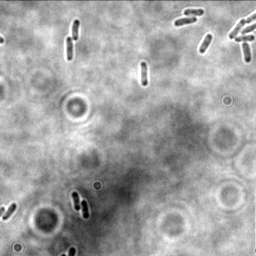Microcolony: (227, 11, 255, 63)
Rod: (1, 201, 18, 222), (197, 32, 213, 54), (173, 15, 198, 27), (138, 60, 149, 87), (71, 190, 83, 211), (80, 199, 91, 220), (183, 7, 205, 17), (66, 35, 74, 62), (71, 18, 80, 42)
